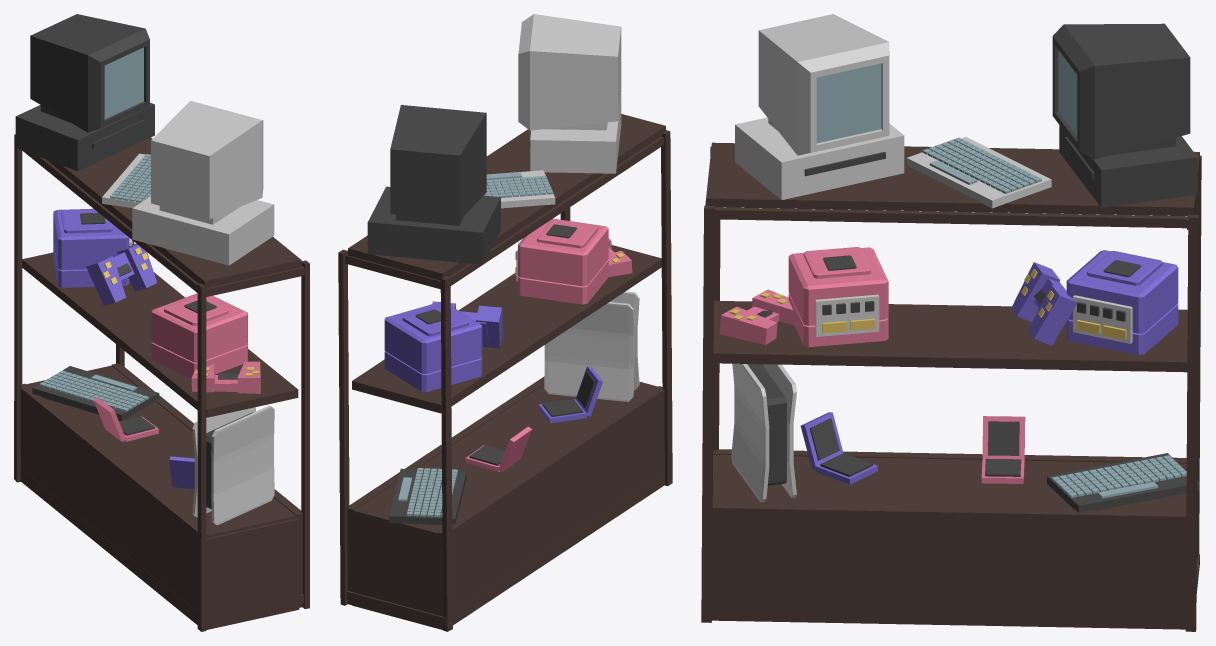
Rendered from gaming.fbx.
3 views of the same model, side by side, from view 1: azimuth 30°, elevation 25°; view 2: azimuth 150°, elevation 25°; view 3: azimuth 270°, elevation 25° (orthographic). The views are drawn at different scales.
Parts seen in each view (by area): view 1: Cube.004; view 2: Cube.004; view 3: Cube.004.
Part boxes in pixels (x1,y1,x2,y2): Cube.004: [14, 14, 309, 631]; Cube.004: [338, 14, 672, 631]; Cube.004: [701, 14, 1201, 631].
Bounding box in the file's own units: 758 × 930 × 274.
